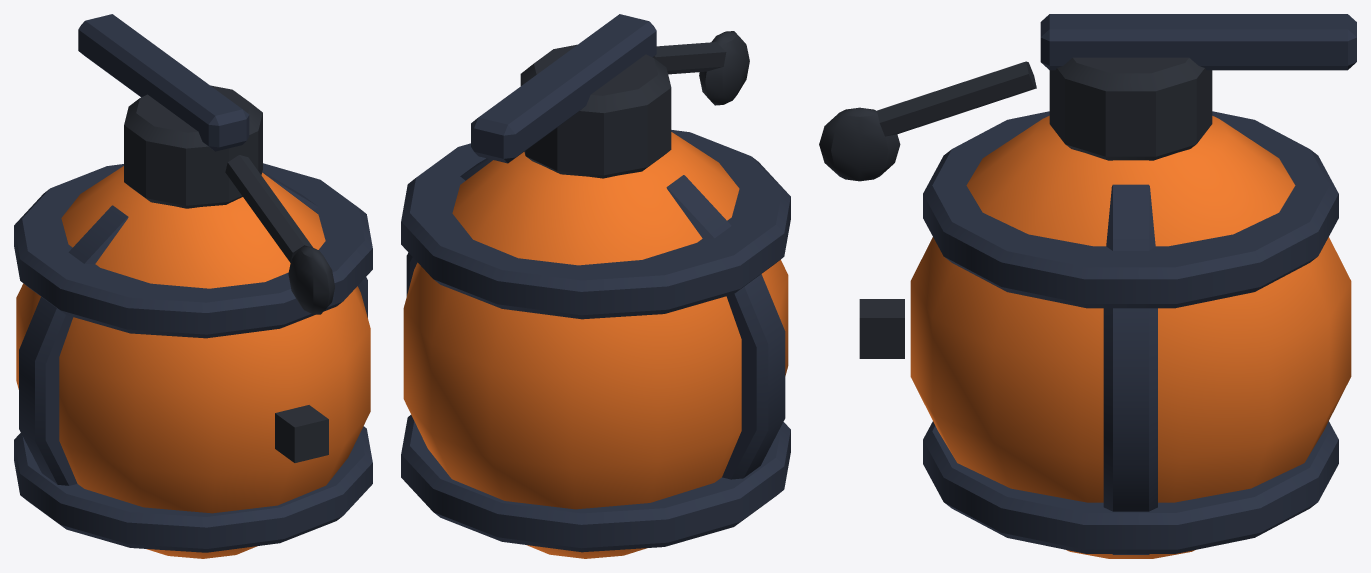
Rendered from wpn_frag_grenade.fbx.
3 renders of one model, left to right at view 1: azimuth 30°, elevation 25°; view 2: azimuth 150°, elevation 25°; view 3: azimuth 270°, elevation 25°, orthographic. The views are drawn at different scales.
Visible parts, largest first — view 1: Body, Muzzle; view 2: Body; view 3: Body, Muzzle.
Part boxes in pixels (<box>): Body: <box>14,14,372,558</box>; Muzzle: <box>275,405,328,462</box>; Body: <box>401,14,790,558</box>; Body: <box>819,14,1356,558</box>; Muzzle: <box>859,299,904,358</box>.
Size of the model in its own units: 0.9749 by 1.28 by 1.19.
2 materials, 1 textured.
